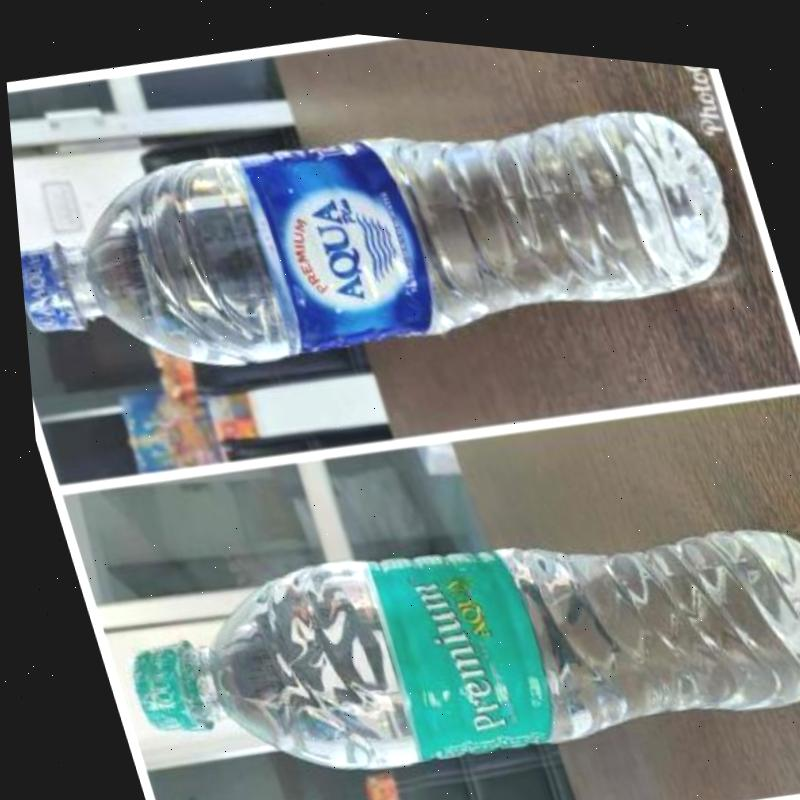botella: (1, 19, 763, 446), (87, 430, 800, 800)
